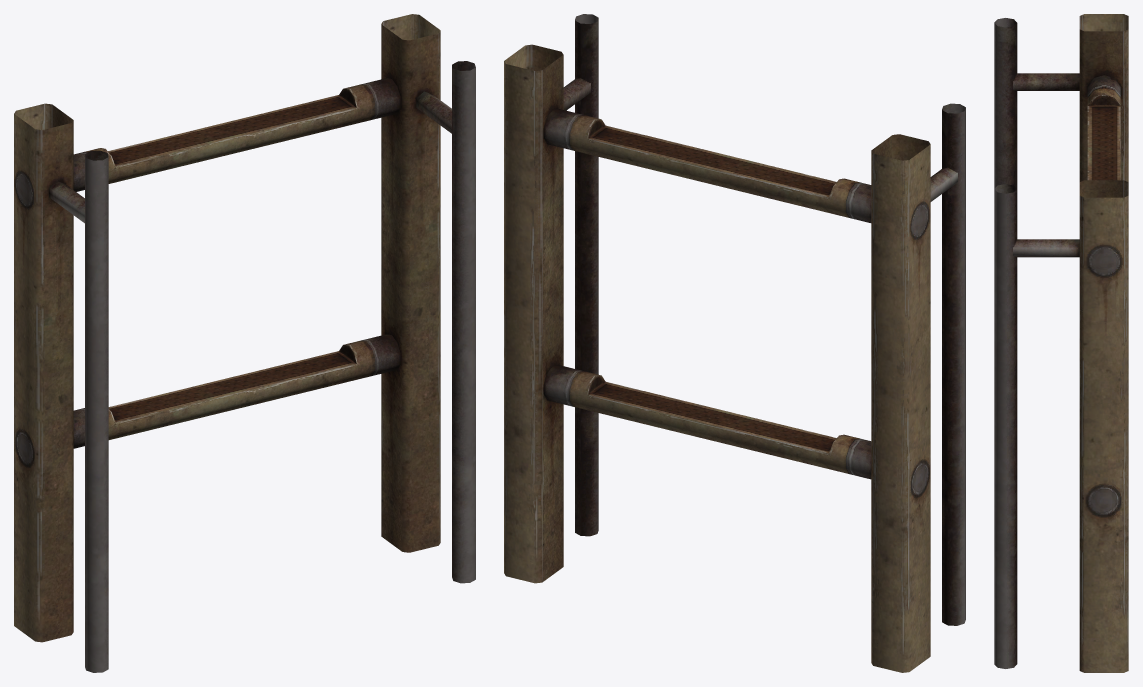
File: ladder_short_pplant.dae
3 views of the same model, side by side, from view 1: azimuth 30°, elevation 25°; view 2: azimuth 150°, elevation 25°; view 3: azimuth 270°, elevation 25° (orthographic). The views are drawn at different scales.
Visible parts, largest first — view 1: ladder_short_pplant; view 2: ladder_short_pplant; view 3: ladder_short_pplant.
Part boxes in pixels (x1=…): ladder_short_pplant: x1=14, y1=14, x2=475, y2=672; ladder_short_pplant: x1=504, y1=14, x2=965, y2=672; ladder_short_pplant: x1=994, y1=14, x2=1128, y2=672.
Size of the model in its own units: 0.8281 by 1 by 0.2563.
